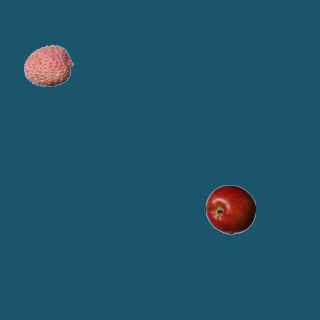Apple Braeburn: (205, 184, 255, 234)
Lychee: (23, 40, 73, 90)
